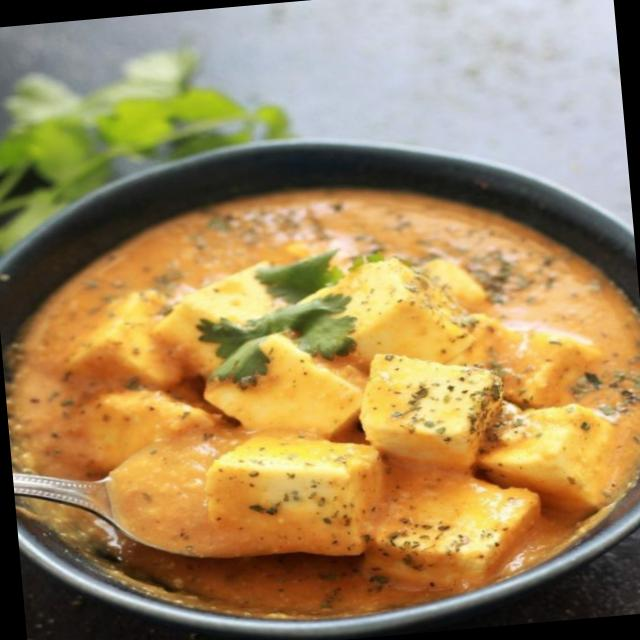ShahiPaneer: (0, 154, 640, 635)
